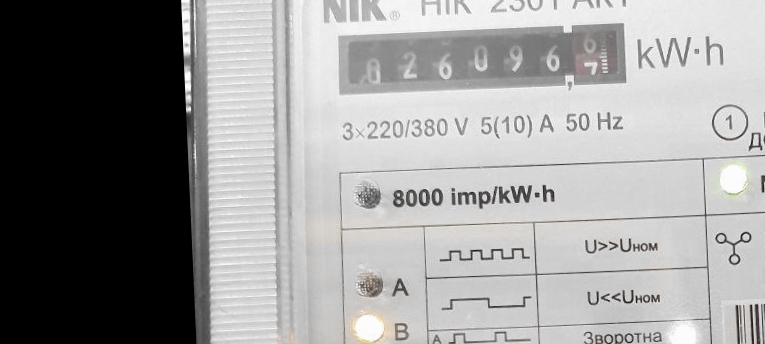0: (469, 40, 491, 76), (362, 53, 383, 86)
2: (397, 47, 420, 83)
6: (434, 48, 455, 83), (542, 40, 562, 74), (579, 28, 599, 56)
7: (581, 57, 600, 79)
9: (505, 41, 526, 74)
screen: (326, 13, 635, 107)
